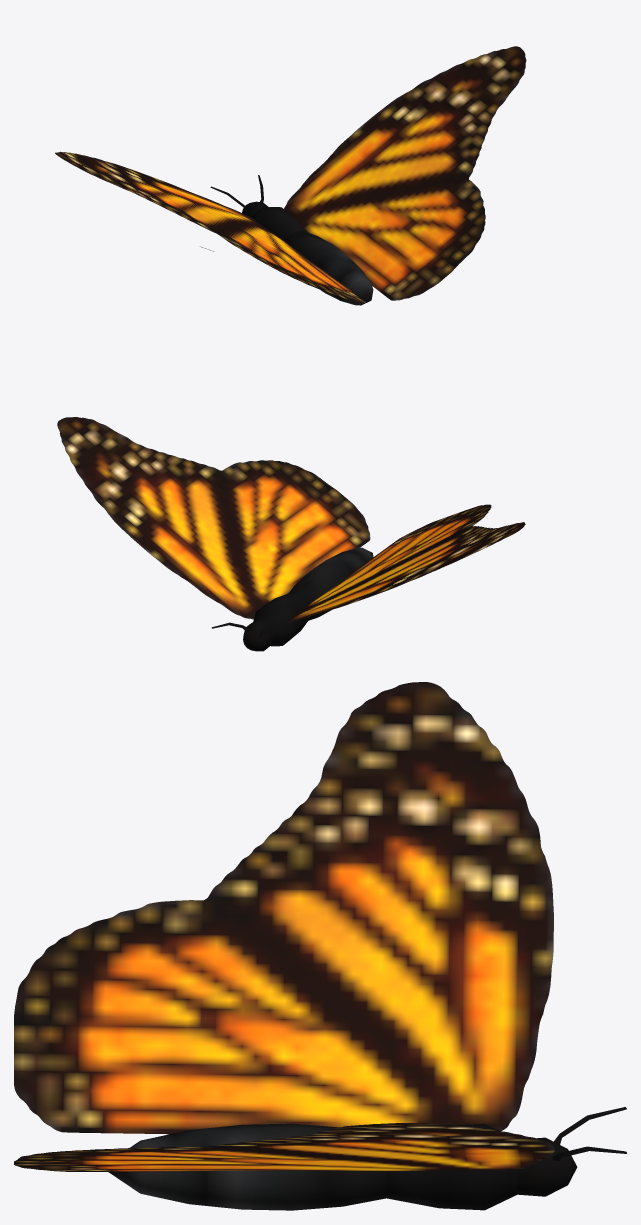
The model's file is fb35bad7-87e4-4419-8222-3a44c23b12d9.glb.
The picture shows the model from 3 angles, top to bottom: view 1: azimuth 30°, elevation 25°; view 2: azimuth 150°, elevation 25°; view 3: azimuth 270°, elevation 25°; orthographic projection. The views are drawn at different scales.
Parts seen in each view (by area): view 1: Monarch; view 2: Monarch; view 3: Monarch.
Part boxes in pixels (x1,y1,x2,y2): Monarch: (55,46,526,305); Monarch: (57,417,525,651); Monarch: (14,682,626,1210).
Bounding box in the file's own units: 0.4955 × 0.1643 × 0.295.
Materials: 1 (1 with a texture image).
